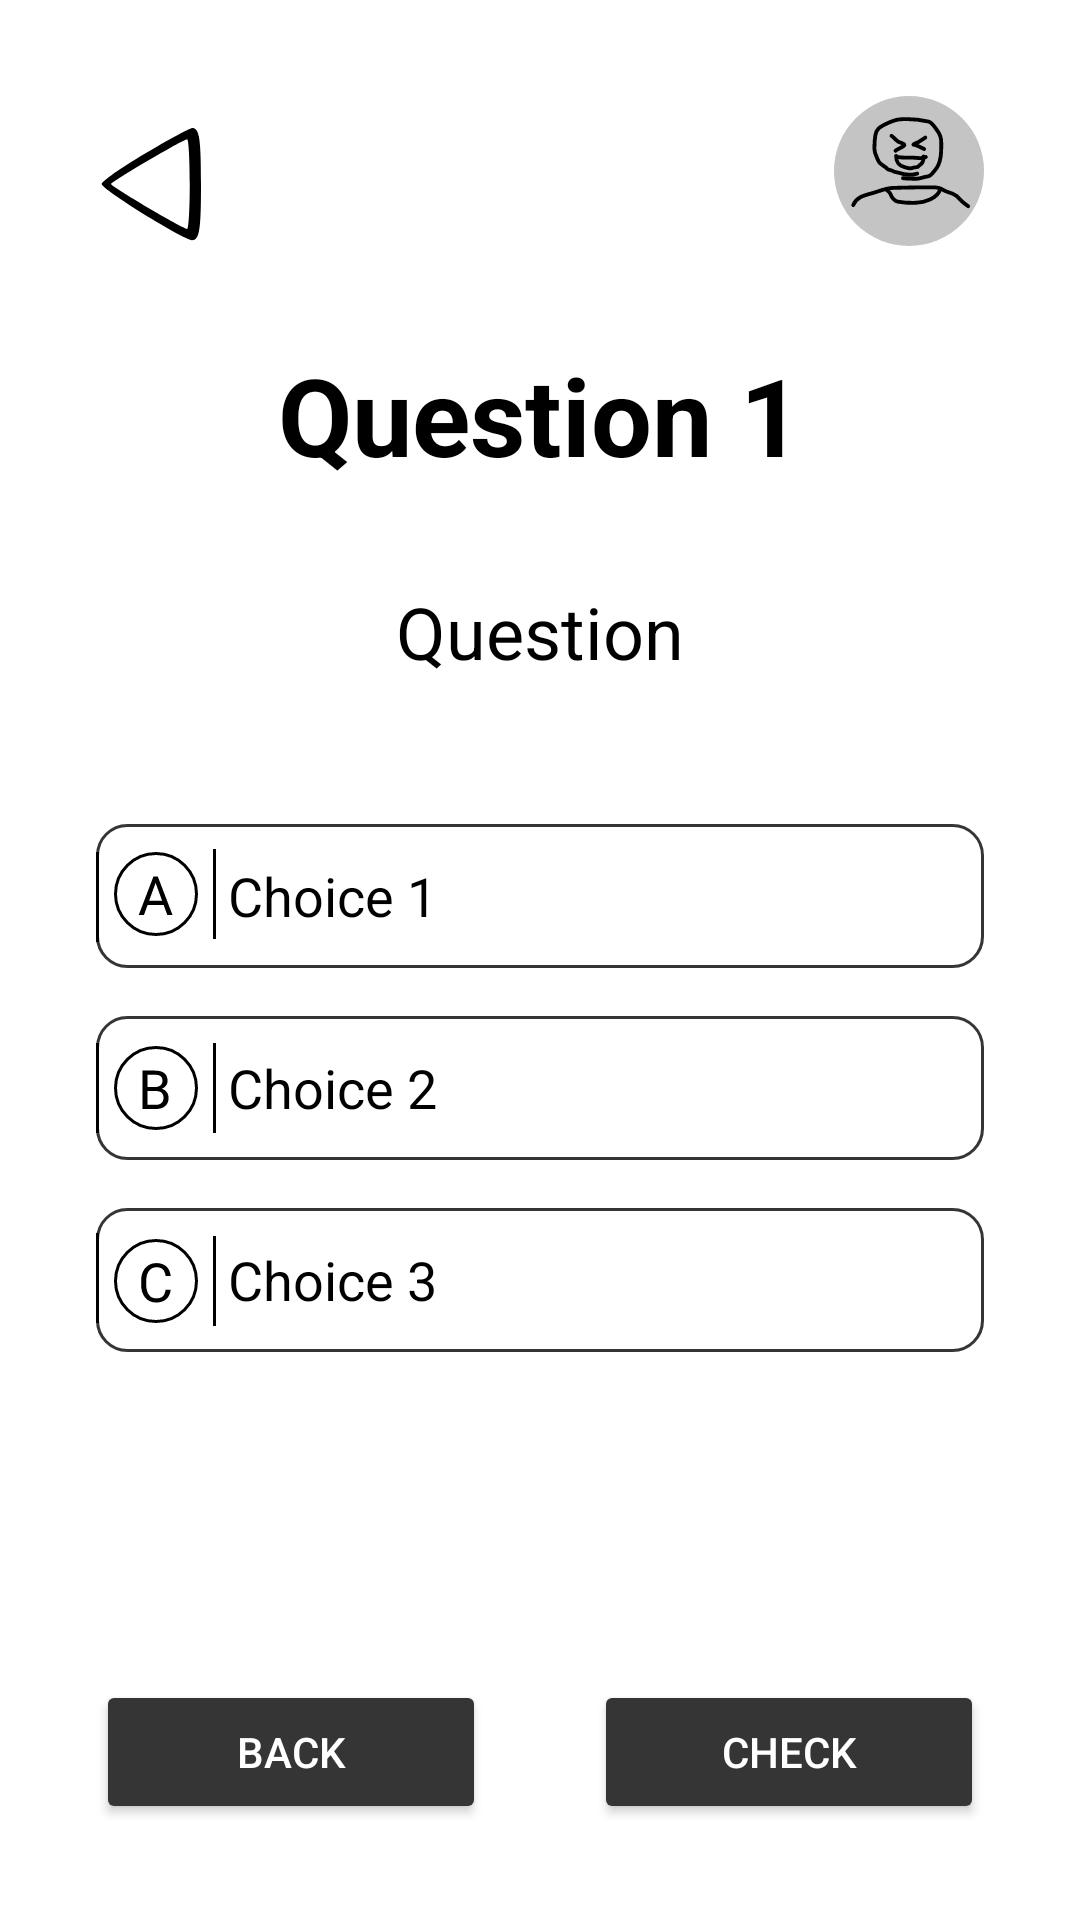

Icons on this 1080px×1920px Android screen, each with the point to tap as point (x, y):
back: point (151, 184)
guest: point (909, 171)
